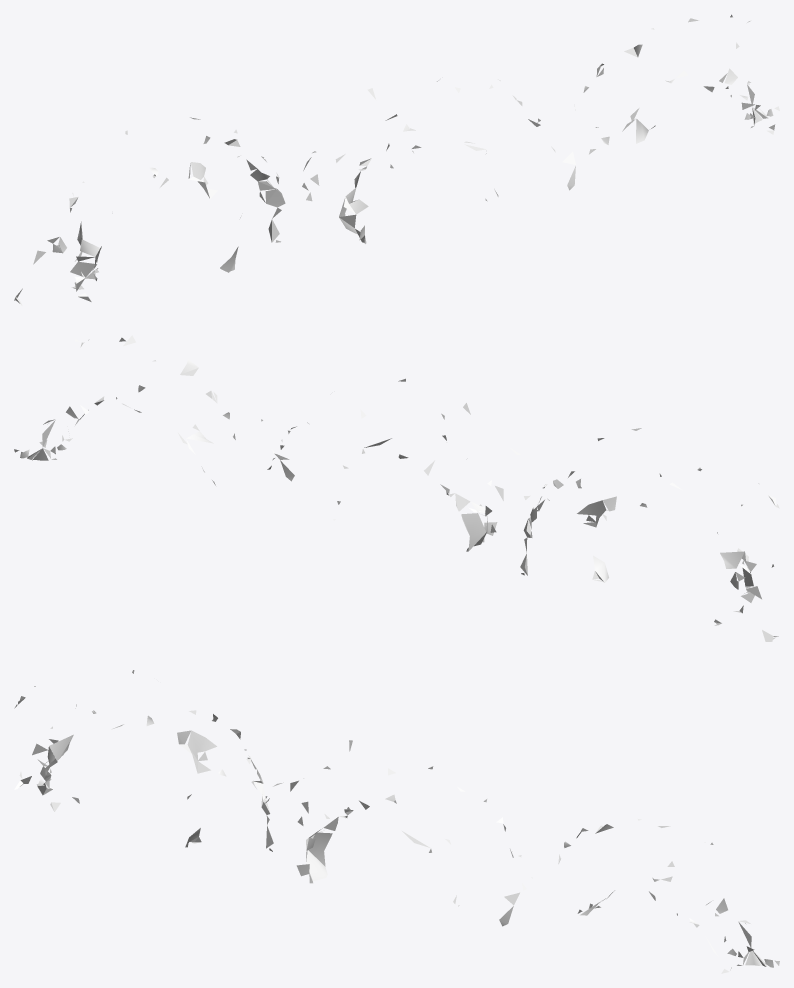
3 views of the same model, one above another, from view 1: azimuth 30°, elevation 25°; view 2: azimuth 150°, elevation 25°; view 3: azimuth 330°, elevation 25° (orthographic).
Size of the model in its own units: 1.87 by 0.3787 by 0.1705.
1 material, 1 textured.
